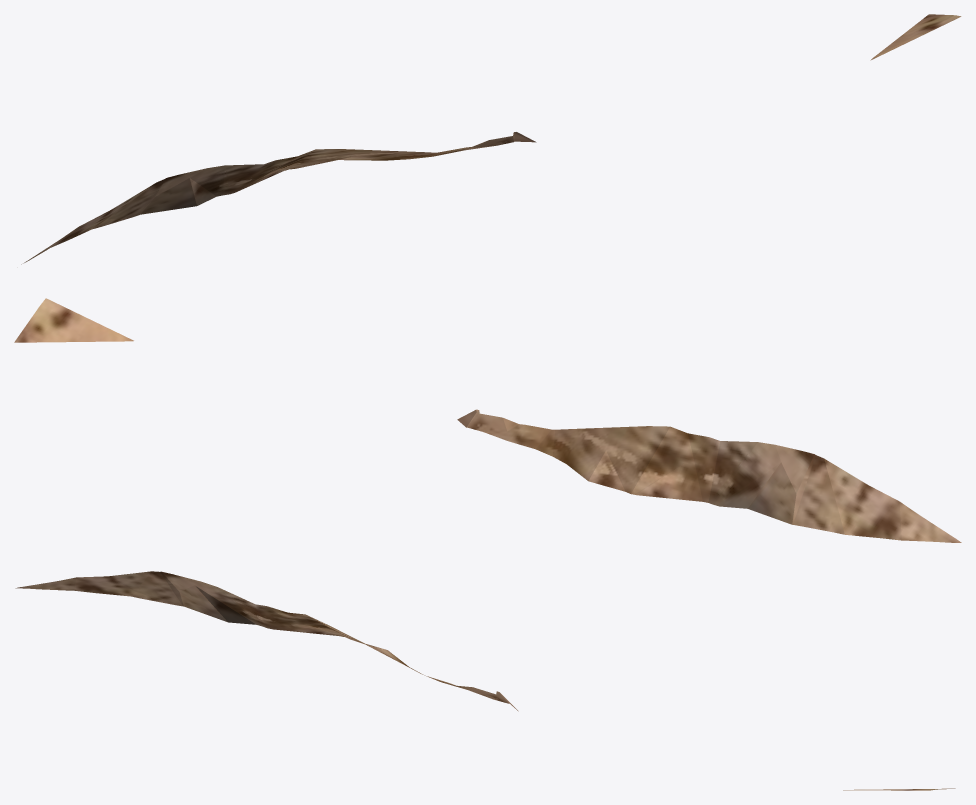
3 renders of one model, top to bottom at view 1: azimuth 30°, elevation 25°; view 2: azimuth 150°, elevation 25°; view 3: azimuth 330°, elevation 25°, orthographic. The views are drawn at different scales.
Size of the model in its own units: 0.8675 by 0.0479 by 0.0539.
1 material, 1 textured.
